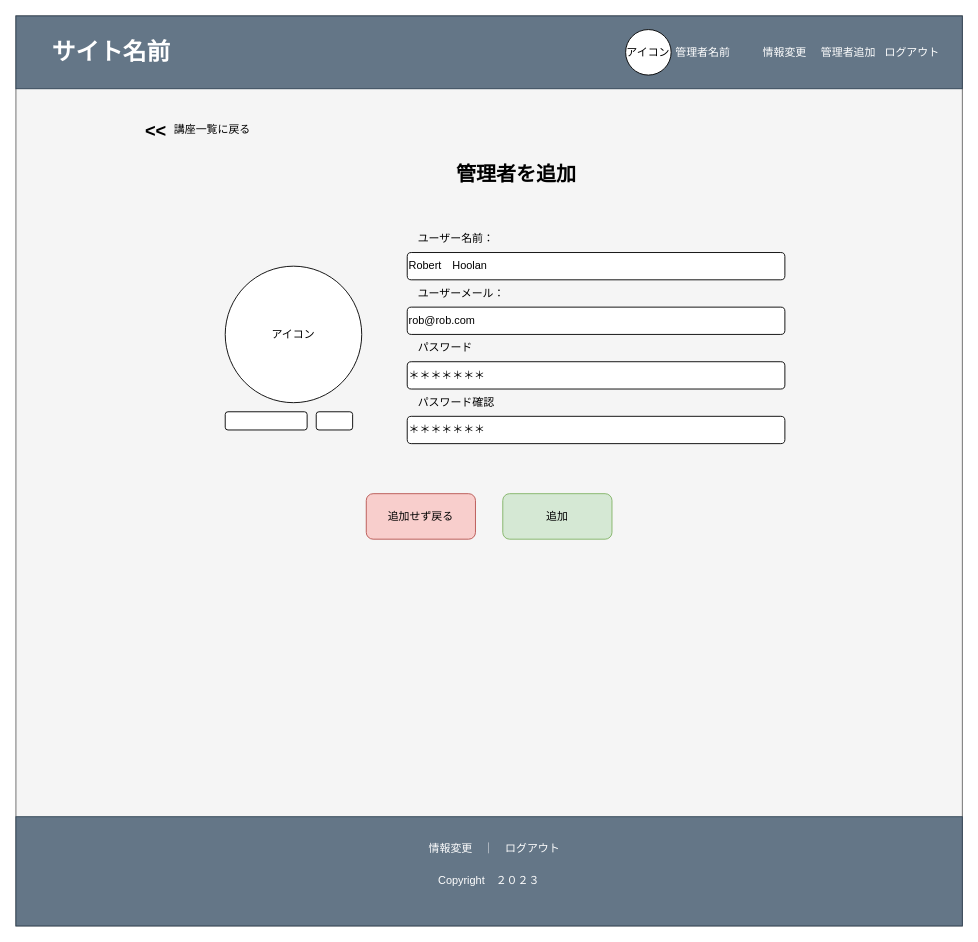
The diagram is 978 pixels wide and 942 high, and some of its shapes have lost their labels. Each missing label, with the box of its shape:
ファイル: (224, 411, 307, 430)
選択: (315, 411, 353, 430)
